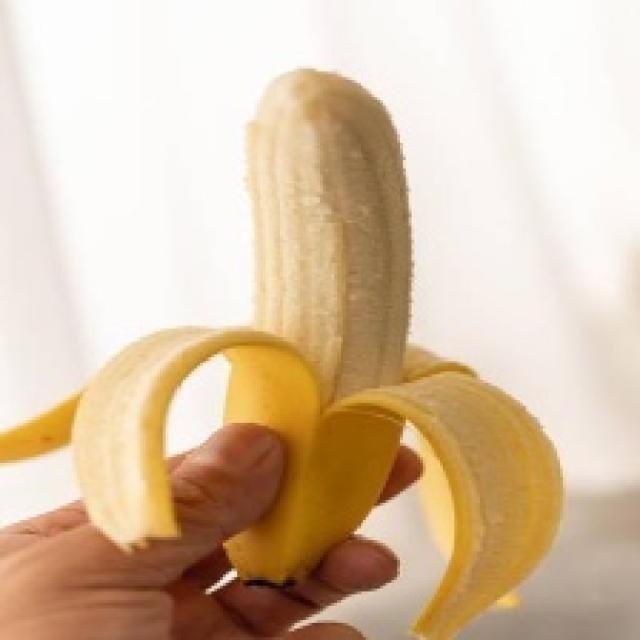Banana: (0, 66, 563, 637)
